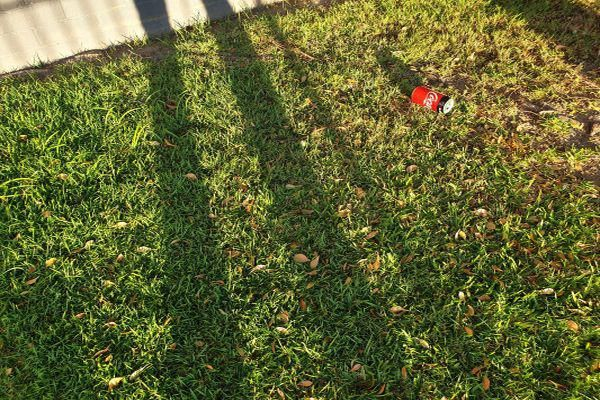Plastic Bottle: (409, 85, 455, 114)
